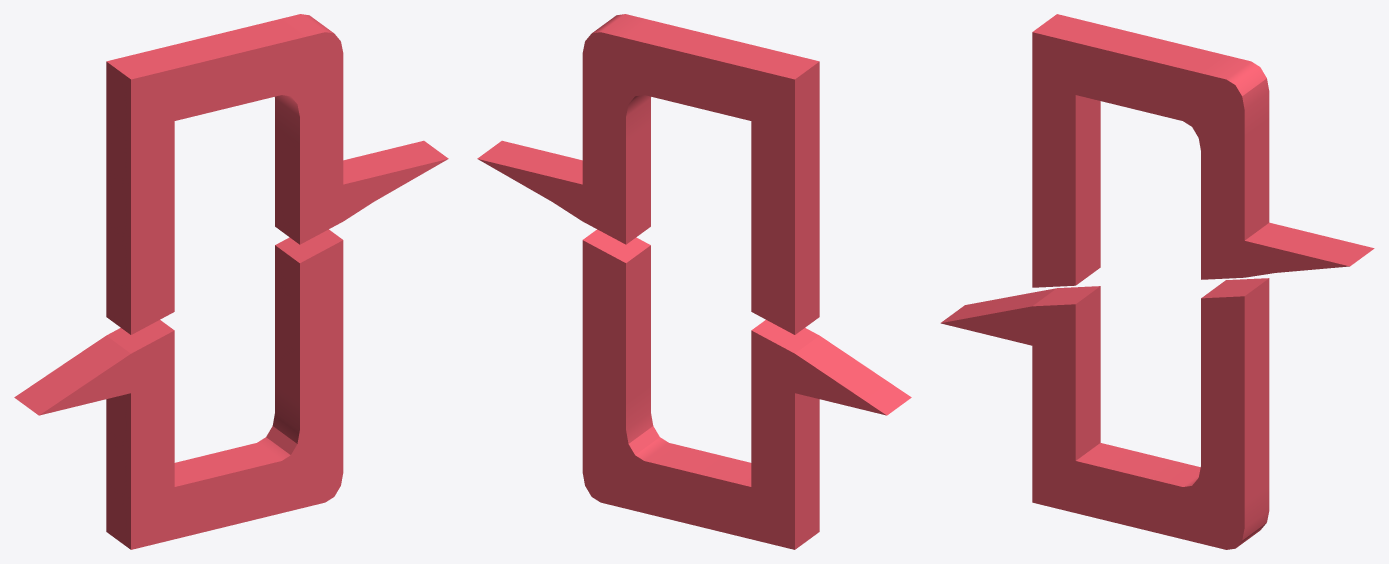
The model's file is Disruptive-transformed.glb.
3 views of the same model, side by side, from view 1: azimuth 30°, elevation 25°; view 2: azimuth 150°, elevation 25°; view 3: azimuth 330°, elevation 25° (orthographic).
Parts seen in each view (by area): view 1: pCube5; view 2: pCube5; view 3: pCube5.
Boxes of the visible parts, x1,y1,x2,y2 form: pCube5: (14, 14, 448, 549); pCube5: (477, 14, 911, 549); pCube5: (940, 14, 1374, 549).
Size of the model in its own units: 0.0684 by 0.075 by 0.00716.
